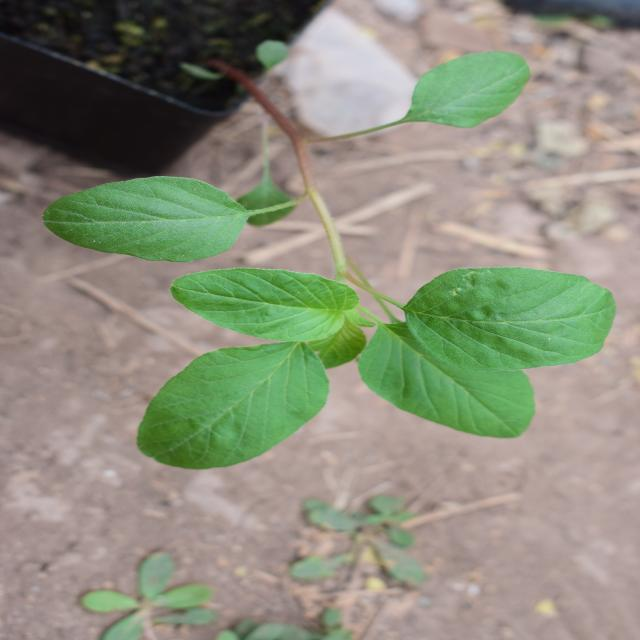pigweed: (111, 21, 467, 560)
